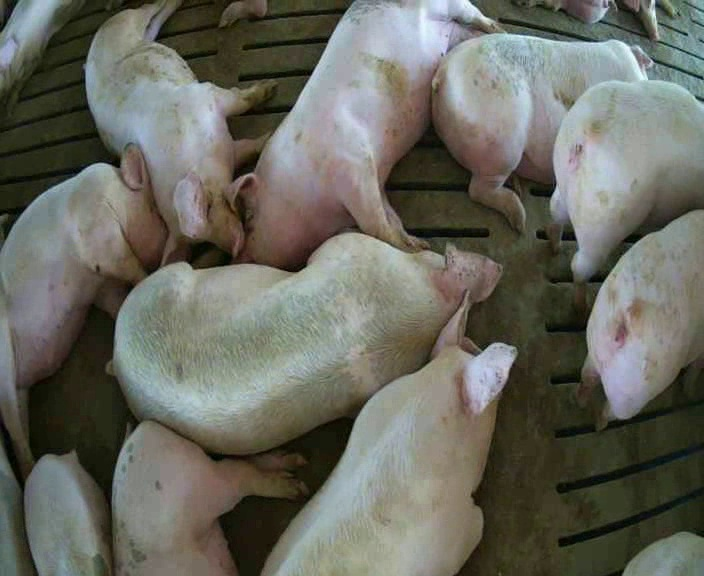pig: (263, 291, 516, 574), (230, 2, 498, 267), (0, 144, 166, 474), (85, 2, 275, 263), (432, 34, 651, 231), (549, 81, 703, 312), (113, 421, 305, 574), (577, 210, 703, 426), (24, 451, 111, 574), (0, 1, 83, 116)
